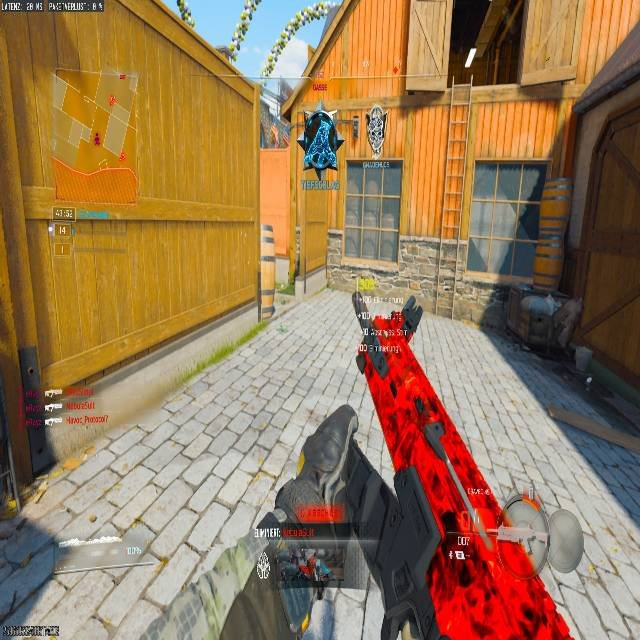player: (299, 105, 343, 176)
